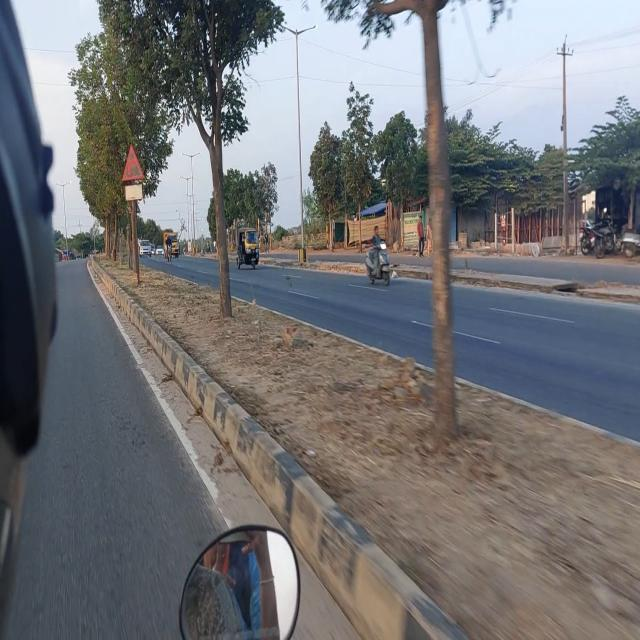bien_cam: (121, 139, 146, 182)
